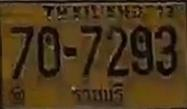0: (37, 25, 60, 77)
2: (106, 26, 127, 76)
3: (154, 24, 177, 74)
7: (10, 25, 33, 79), (80, 24, 101, 76)
9: (130, 25, 152, 74)
RBR: (67, 81, 125, 106)
